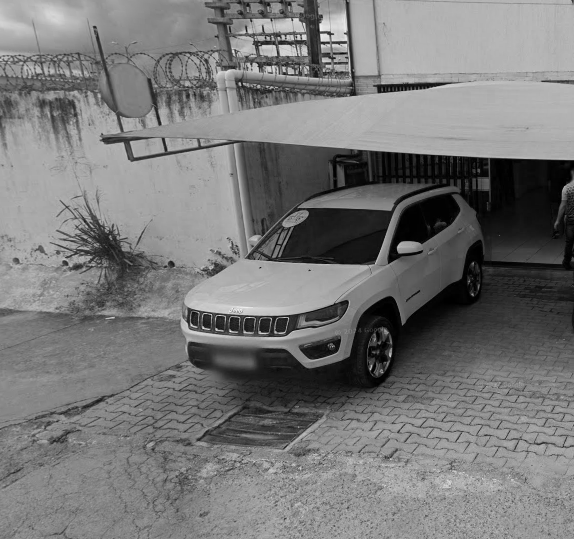car: (178, 172, 493, 394)
